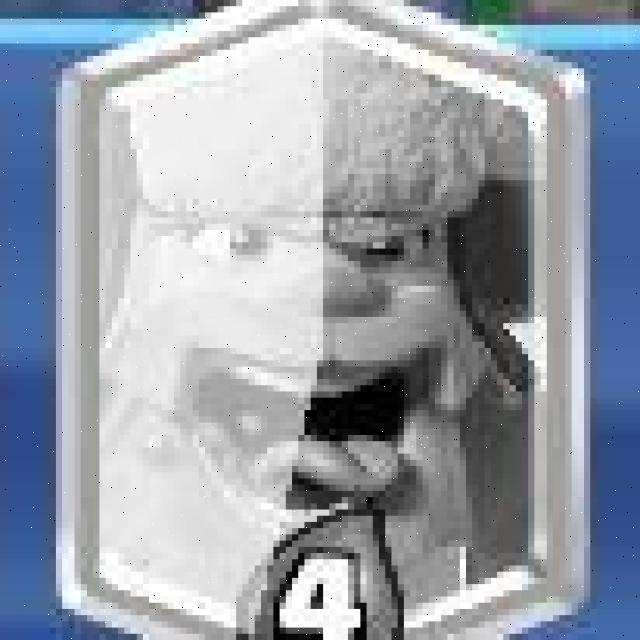Lumberjack: (80, 0, 594, 640)
